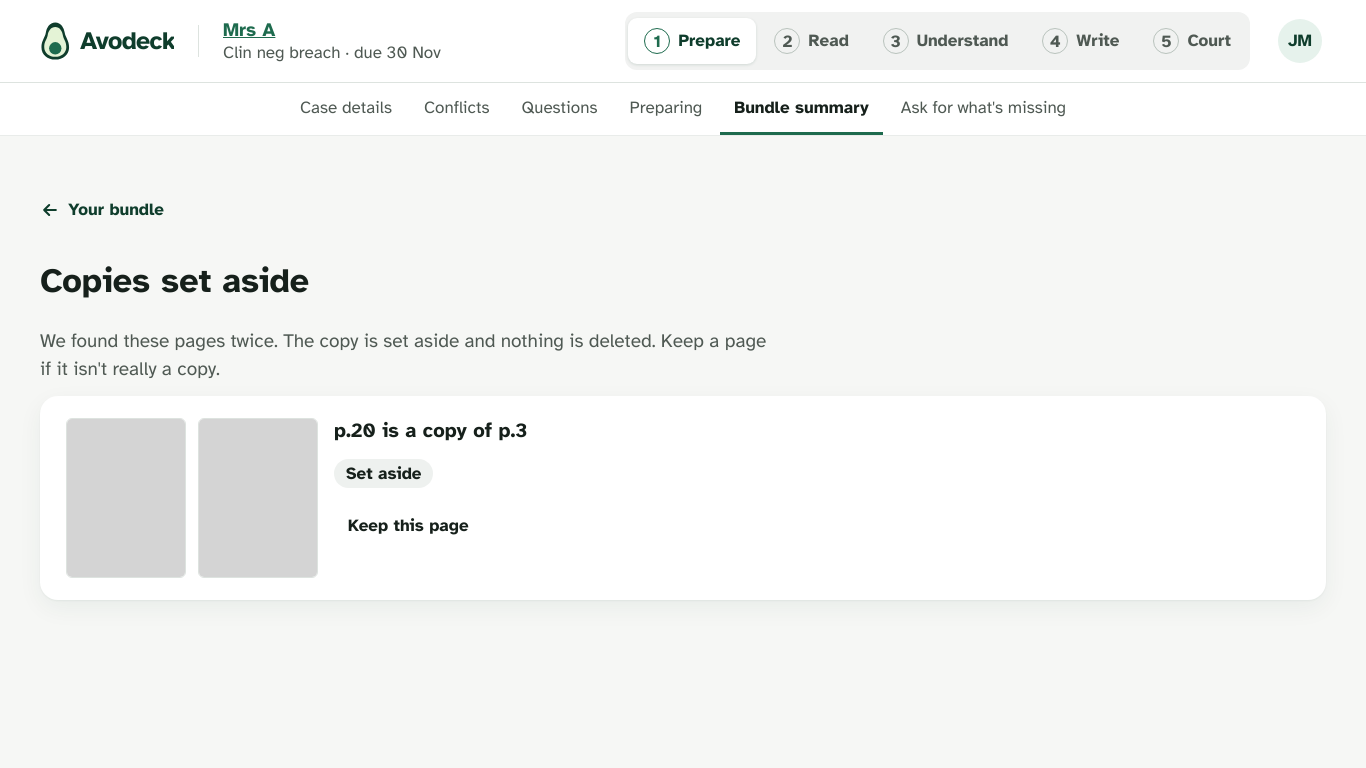
Test: Copies under the launch packs › keeping a page puts it back in the bundle
The width and height of the screenshot is (1366, 768).
What coordinates should you click on to do the following:
click the button "Keep this page"
I would click on:
 (408, 526)
Its box is x1=334 y1=500 x2=482 y2=552.
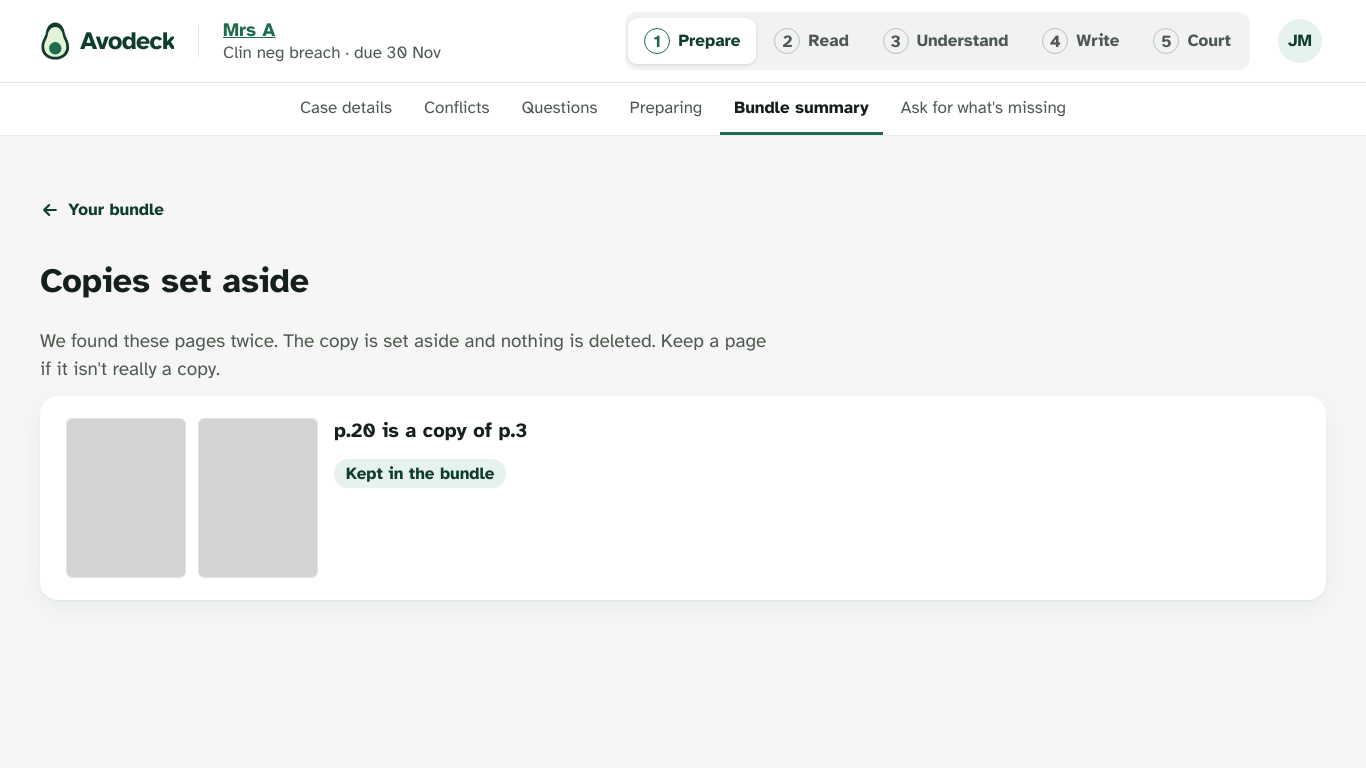
Now the text "Kept in the bundle" is shown, box x1=334 y1=458 x2=506 y2=488
Now the button "Keep this page" is gone
